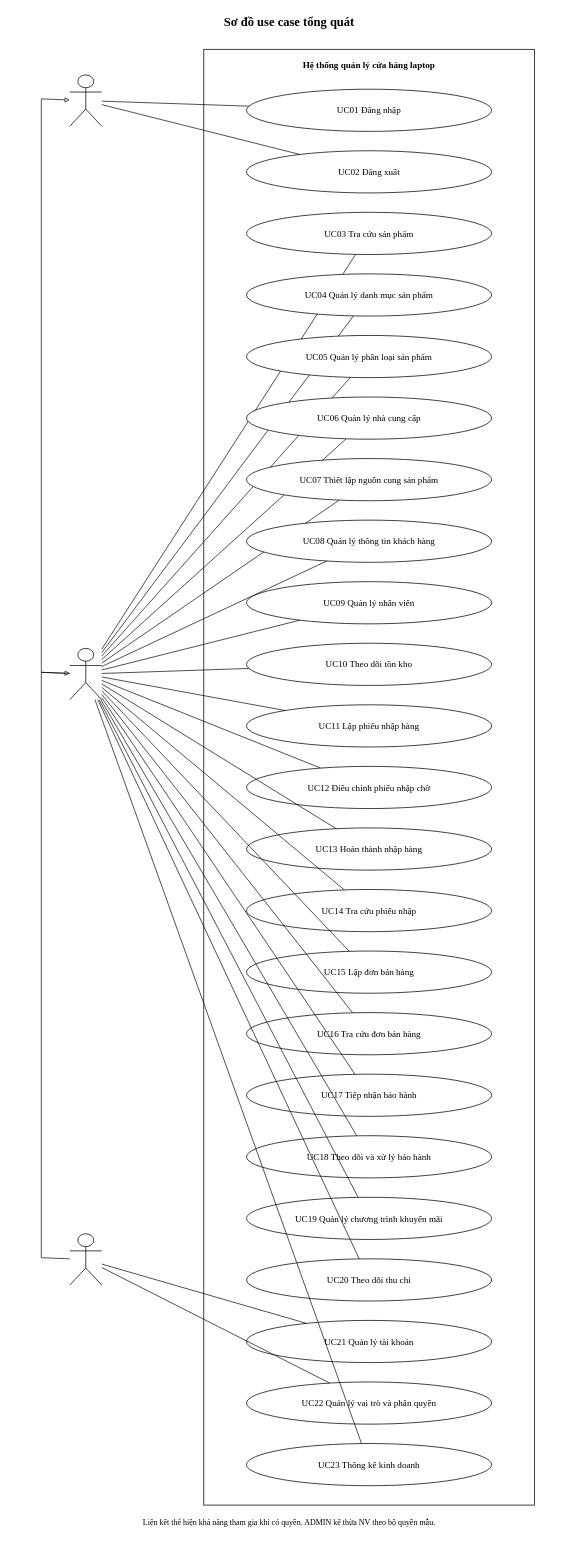
Some shapes in this 578 by 1544 pixel diagram are drawn without their labels. The shapes that lost their labels are listed below. From the top down, each one's centre as x and y in pixels, then its label:
(85,100): Người dùng hệ thống
(85,674): Nhân viên bán hàng
(85,1259): Quản trị viên
